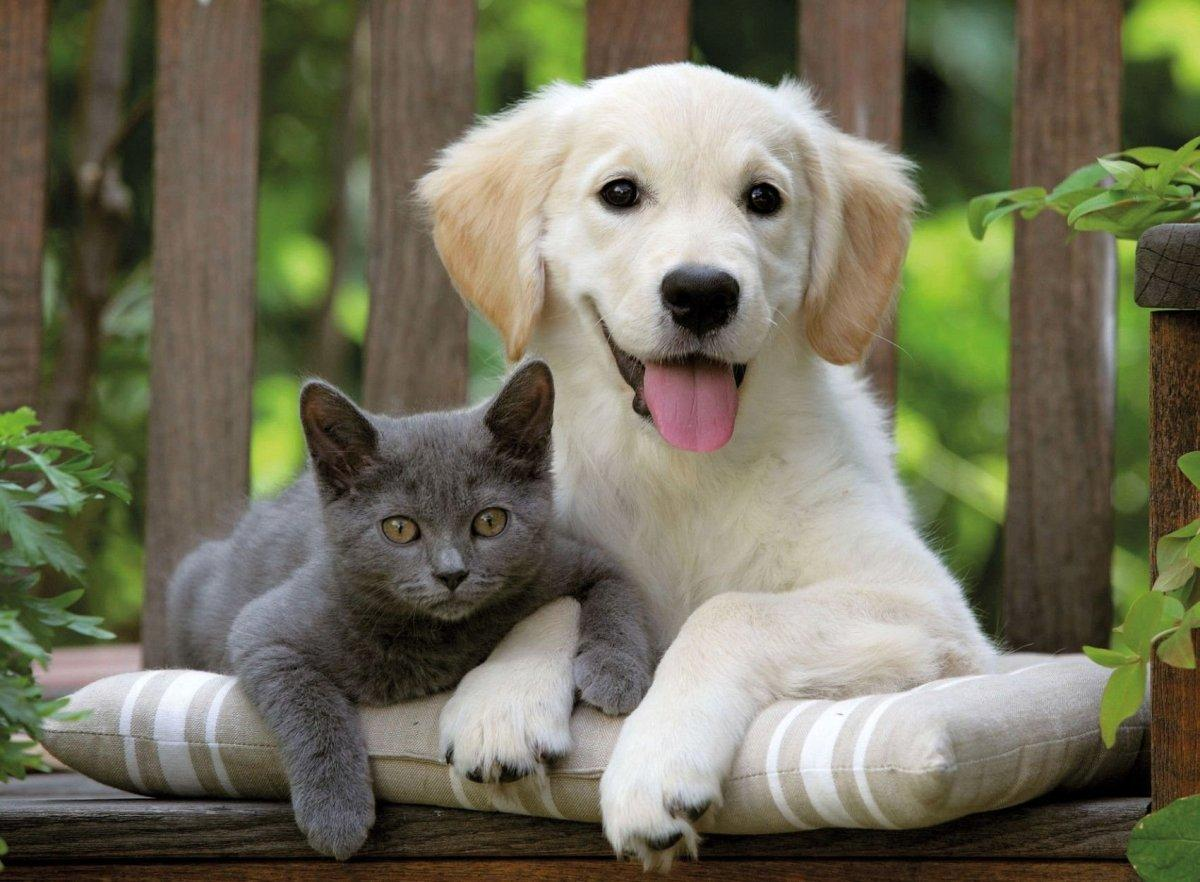animals: (406, 49, 995, 784), (123, 349, 654, 841)
